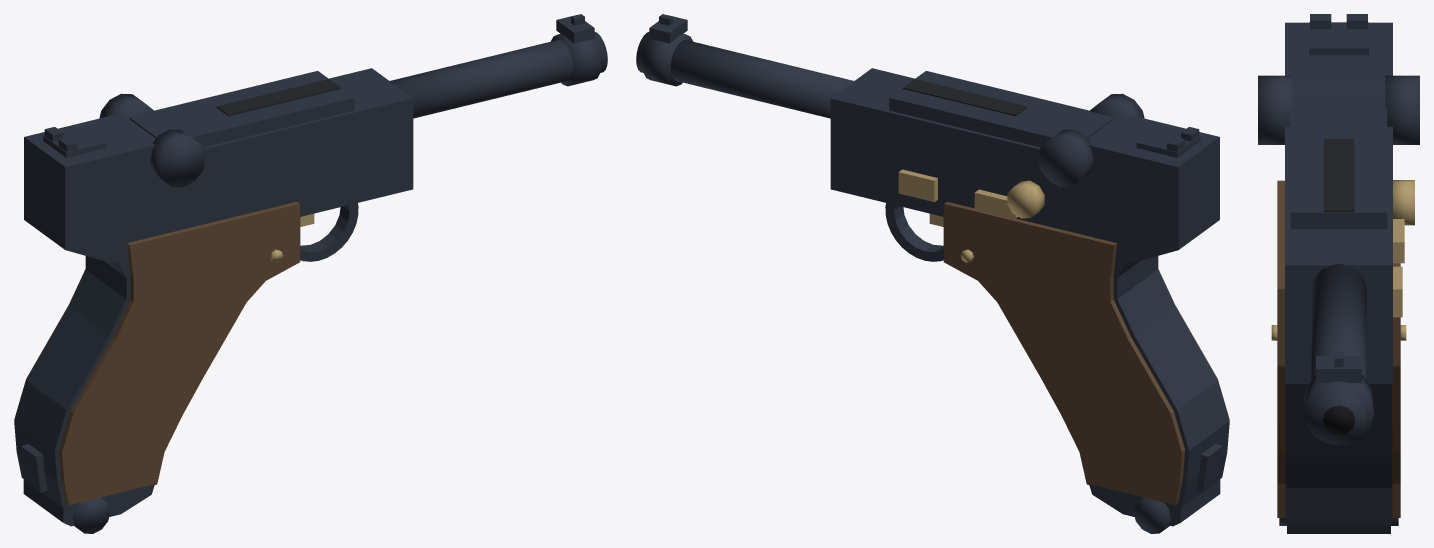
File: luger_p08_v8_game.fbx
3 views of the same model, side by side, from view 1: azimuth 30°, elevation 25°; view 2: azimuth 150°, elevation 25°; view 3: azimuth 270°, elevation 25° (orthographic). The views are drawn at different scales.
Visible parts, largest first — view 1: luger_p08_v8; view 2: luger_p08_v8; view 3: luger_p08_v8.
Boxes of the visible parts, x1,y1,x2,y2 form: luger_p08_v8: [14, 14, 607, 533]; luger_p08_v8: [636, 14, 1229, 533]; luger_p08_v8: [1258, 14, 1419, 533].
Size of what is drawn, in the model's own units: 0.2226 by 0.1433 by 0.042.
